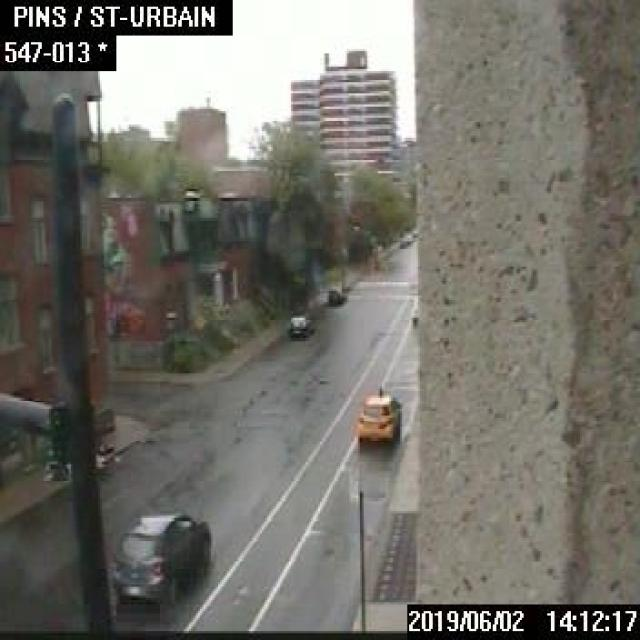vehicle: (109, 509, 211, 604), (355, 384, 400, 442), (286, 311, 312, 335), (326, 282, 346, 302)
